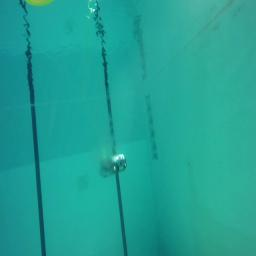front: (99, 153, 127, 179)
